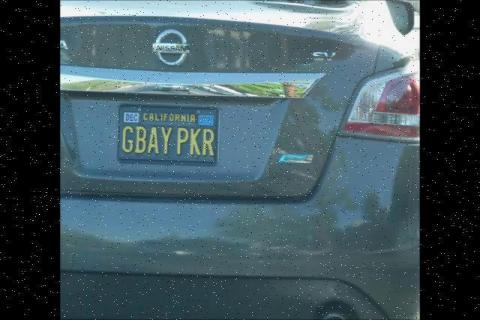LicensePlate: (118, 105, 220, 167)
